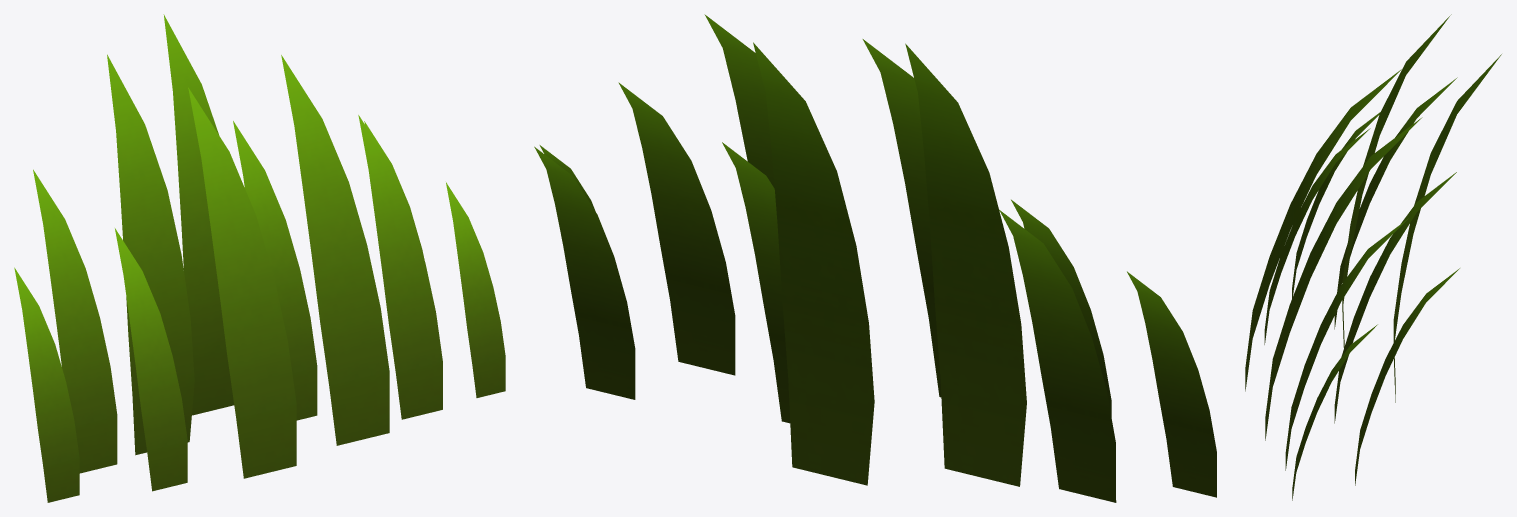
File: MESH_Petit_Bush01.fbx
3 renders of one model, left to right at view 1: azimuth 30°, elevation 25°; view 2: azimuth 150°, elevation 25°; view 3: azimuth 270°, elevation 25°, orthographic. The views are drawn at different scales.
Visible parts, largest first — view 1: MESH_Petit_Bush01; view 2: MESH_Petit_Bush01; view 3: MESH_Petit_Bush01.
Part boxes in pixels (box(x1,y1,x2,y2)): MESH_Petit_Bush01: box(14, 14, 505, 502); MESH_Petit_Bush01: box(534, 14, 1216, 502); MESH_Petit_Bush01: box(1245, 14, 1501, 500).
Size of the model in its own units: 0.6505 by 0.476 by 0.3258.
